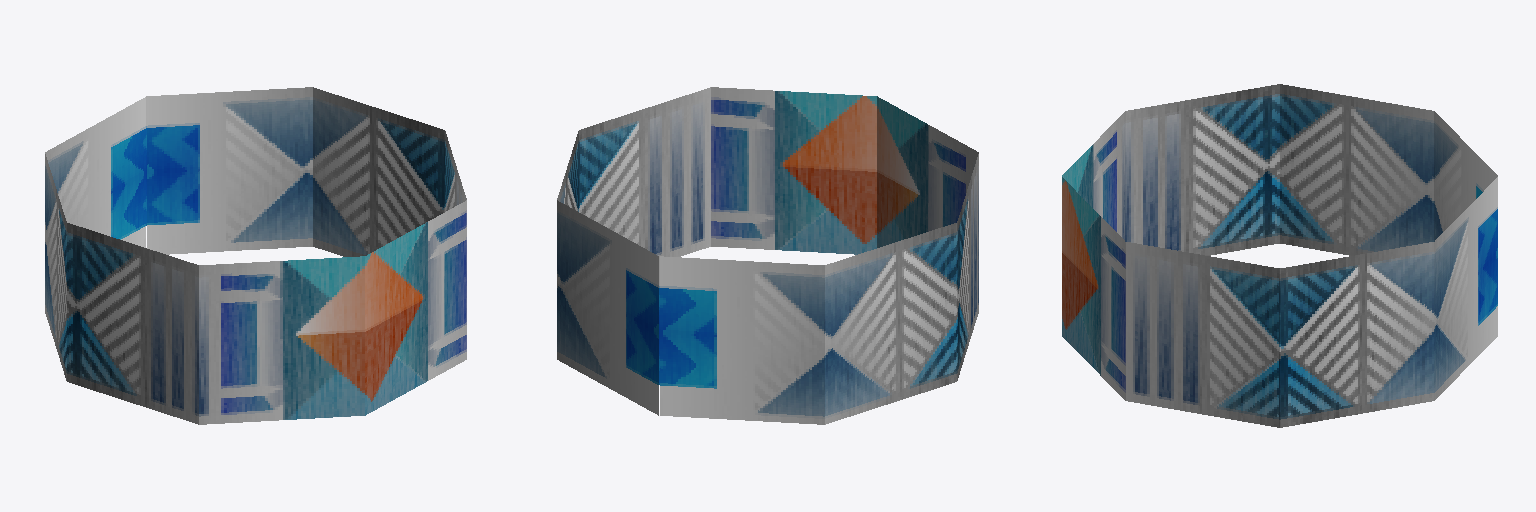
The picture shows the model from 3 angles: view 1: azimuth 30°, elevation 25°; view 2: azimuth 150°, elevation 25°; view 3: azimuth 270°, elevation 25°; orthographic projection.
Parts seen in each view (by area): view 1: wheel_b; view 2: wheel_b; view 3: wheel_b.
Boxes of the visible parts, <box> form: wheel_b: <box>45,87,466,424</box>; wheel_b: <box>557,87,978,424</box>; wheel_b: <box>1062,84,1497,427</box>.
Bounding box in the file's own units: 101 × 40.73 × 101.
1 materials, 1 textured.